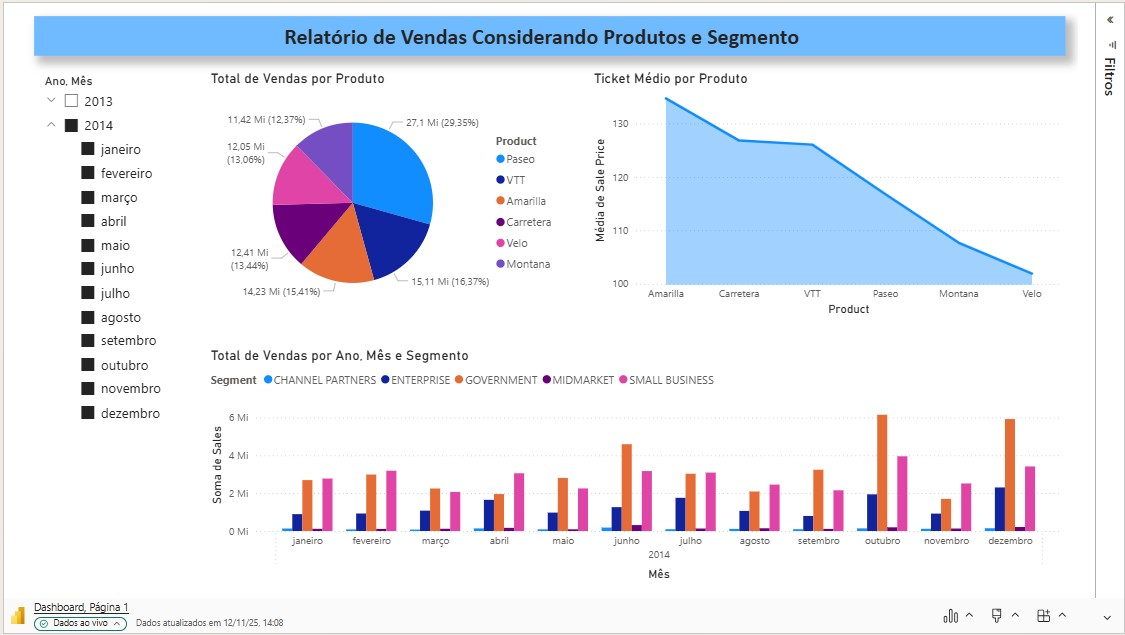

The page's visual inventory and layout, read from the dashboard file:
{"tool":"powerbi","page":{"name":"Página 1","canvas":[1280,720],"ordinal":0},"visuals":[{"type":"pieChart","title":"Total de Vendas por Produto","fields":{"Category":["financials.Product"],"Y":["Sum(financials.Sales)"]},"box":[224,80,432,304],"z":0},{"type":"areaChart","title":"Ticket Médio por Produto","fields":{"Category":["financials.Product"],"Y":["Avg(financials.Sale Price)"]},"box":[688,80,576,304],"z":1000},{"type":"clusteredColumnChart","title":"Total de Vendas por Ano, Mês e Segmento","fields":{"Y":["Sum(financials.Sales)"],"Series":["financials.Segment"],"Category":["financials.Date.Variation.Hierarquia de datas.Ano","financials.Date.Variation.Hierarquia de datas.Mês"]},"box":[224,416,1040,288],"z":2000},{"type":"slicer","fields":{"Values":["financials.Date.Variation.Hierarquia de datas.Ano","financials.Date.Variation.Hierarquia de datas.Mês"]},"box":[16,80,192,624],"z":3000},{"type":"textbox","box":[16,16,1248,48],"z":4000}]}

Visuals, with their boxes on the page's 1280x720 design canvas (x1, y1, x2, y2). These are canvas units, not pixel positions in the 1125x635 screenshot, which may show the page scaled, cropped or inside an application window:
"Total de Vendas por Produto" pieChart: [224,80,656,384]
"Ticket Médio por Produto" areaChart: [688,80,1264,384]
"Total de Vendas por Ano, Mês e Segmento" clusteredColumnChart: [224,416,1264,704]
slicer - financials.Date.Variation.Hierarquia de datas.Ano x financials.Date.Variation.Hierarquia de datas.Mês: [16,80,208,704]
textbox: [16,16,1264,64]
